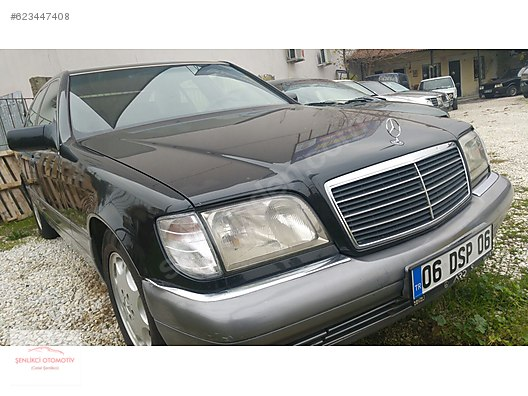m: (1, 56, 520, 347)
